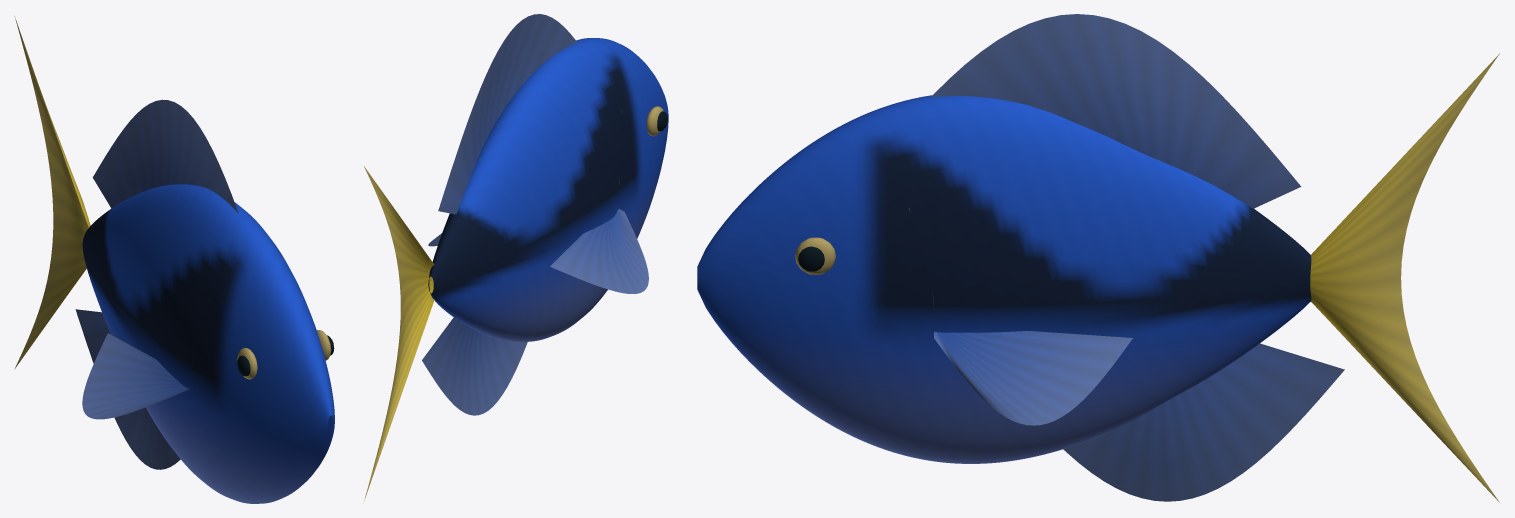
The model's file is blueTang.glb.
The picture shows the model from 3 angles, left to right: view 1: azimuth 30°, elevation 25°; view 2: azimuth 150°, elevation 25°; view 3: azimuth 270°, elevation 25°; orthographic projection. The views are drawn at different scales.
Visible parts, largest first — view 1: Ocean Slice blueTang; view 2: Ocean Slice blueTang; view 3: Ocean Slice blueTang.
Boxes of the visible parts, x1,y1,x2,y2 form: Ocean Slice blueTang: (14,16,334,503); Ocean Slice blueTang: (364,14,668,501); Ocean Slice blueTang: (697,14,1499,502).
Bounding box in the file's own units: 0.52 × 0.868 × 1.29.
